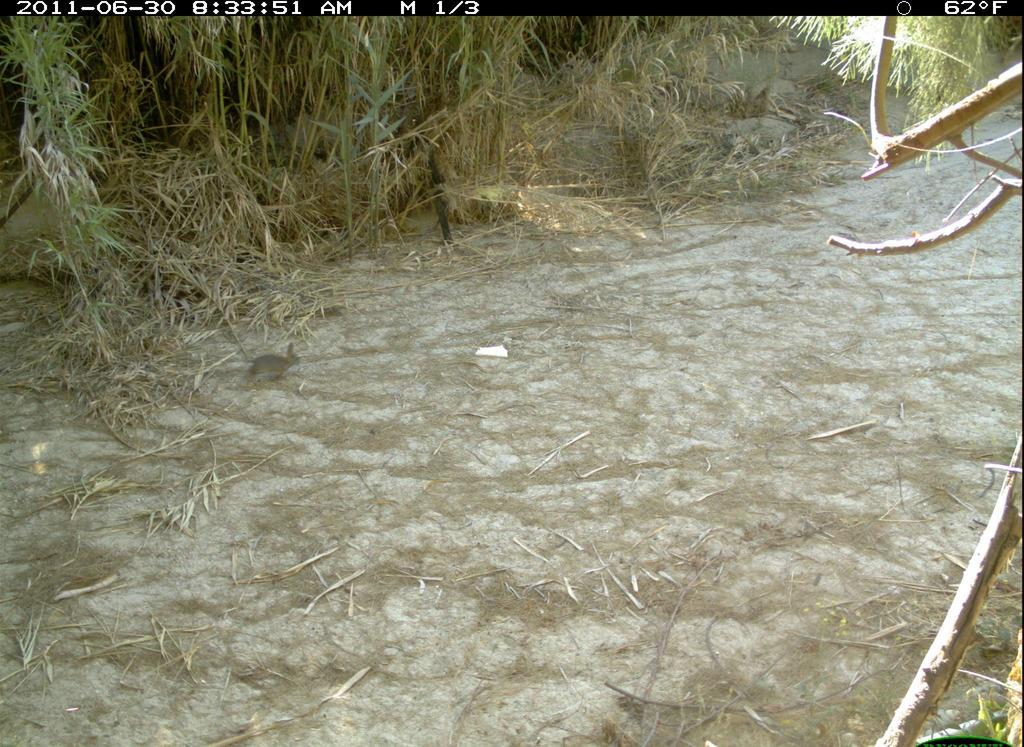rabbit: (237, 333, 306, 393)
